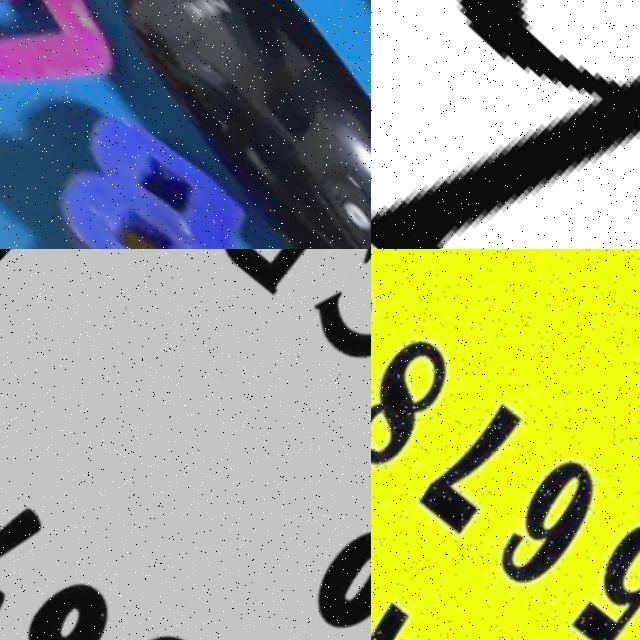0: (270, 498, 371, 640)
5: (522, 484, 640, 640)
6: (453, 435, 634, 619), (0, 560, 135, 640)
7: (376, 363, 570, 560), (0, 473, 82, 640)
8: (371, 309, 489, 508)
9: (371, 249, 421, 442)
B: (19, 87, 303, 249)
G: (0, 0, 141, 136)
H: (371, 0, 640, 249)
